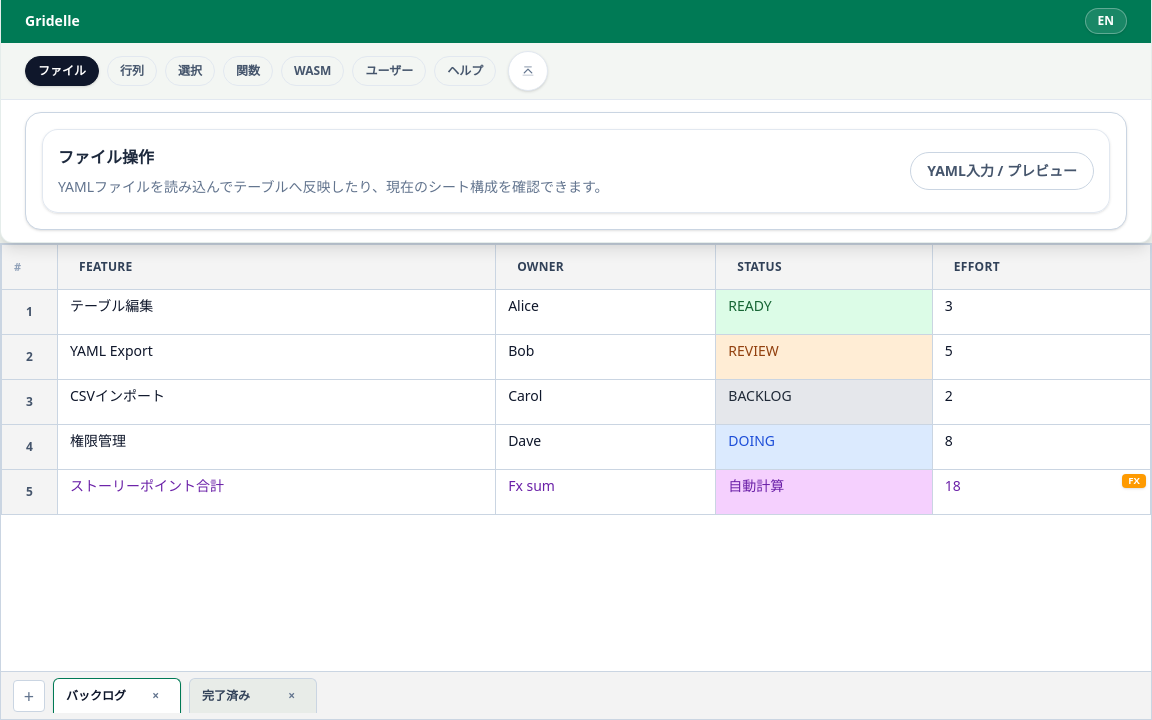
Test: App › ヘルプタブでバージョン情報を確認できる
The width and height of the screenshot is (1152, 720).
Click the button with test id "menu-tab-help".
click(465, 71)  # box [434,56,496,86]
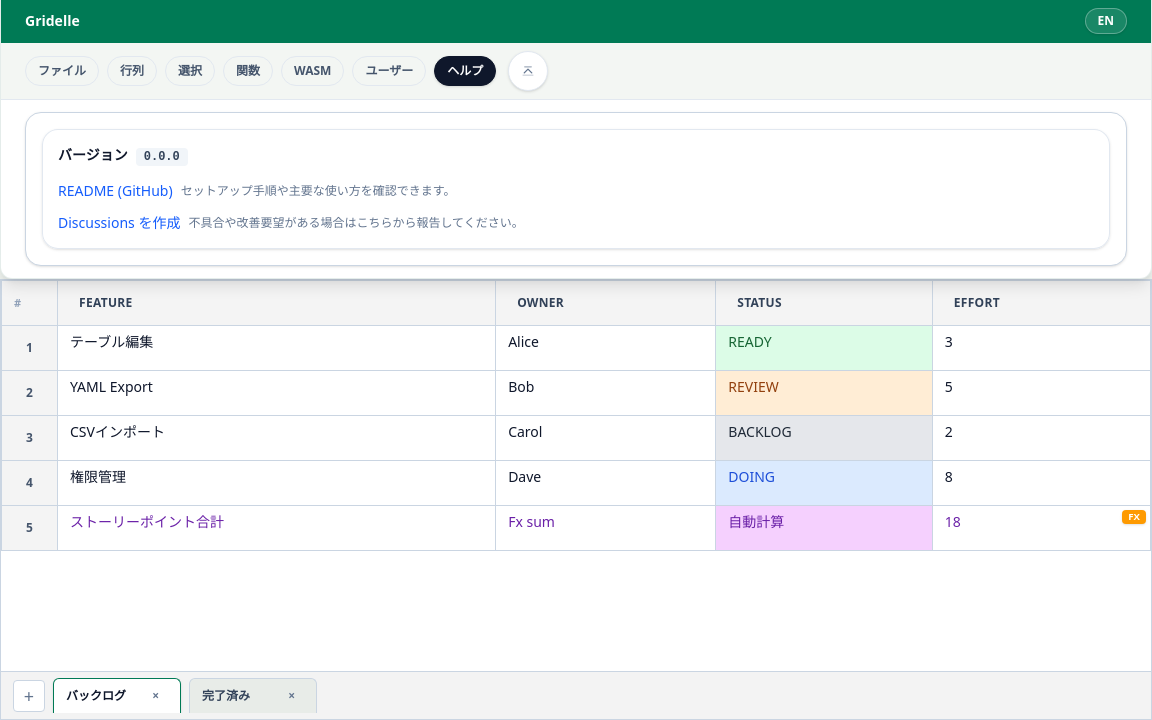
Check: the text with test id "app-version" reads "0.0.0", box [144,150,180,164]
